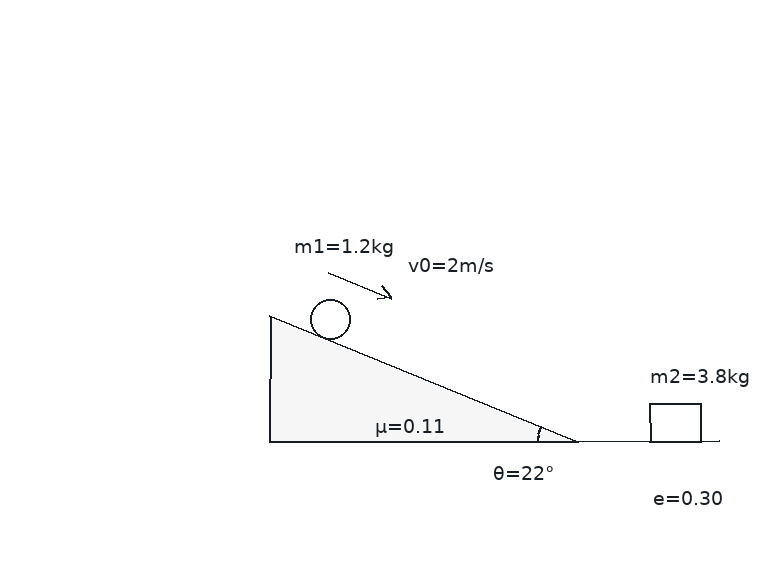ball: (308, 297, 352, 341)
block: (647, 402, 703, 443)
ramp: (268, 315, 580, 443)
